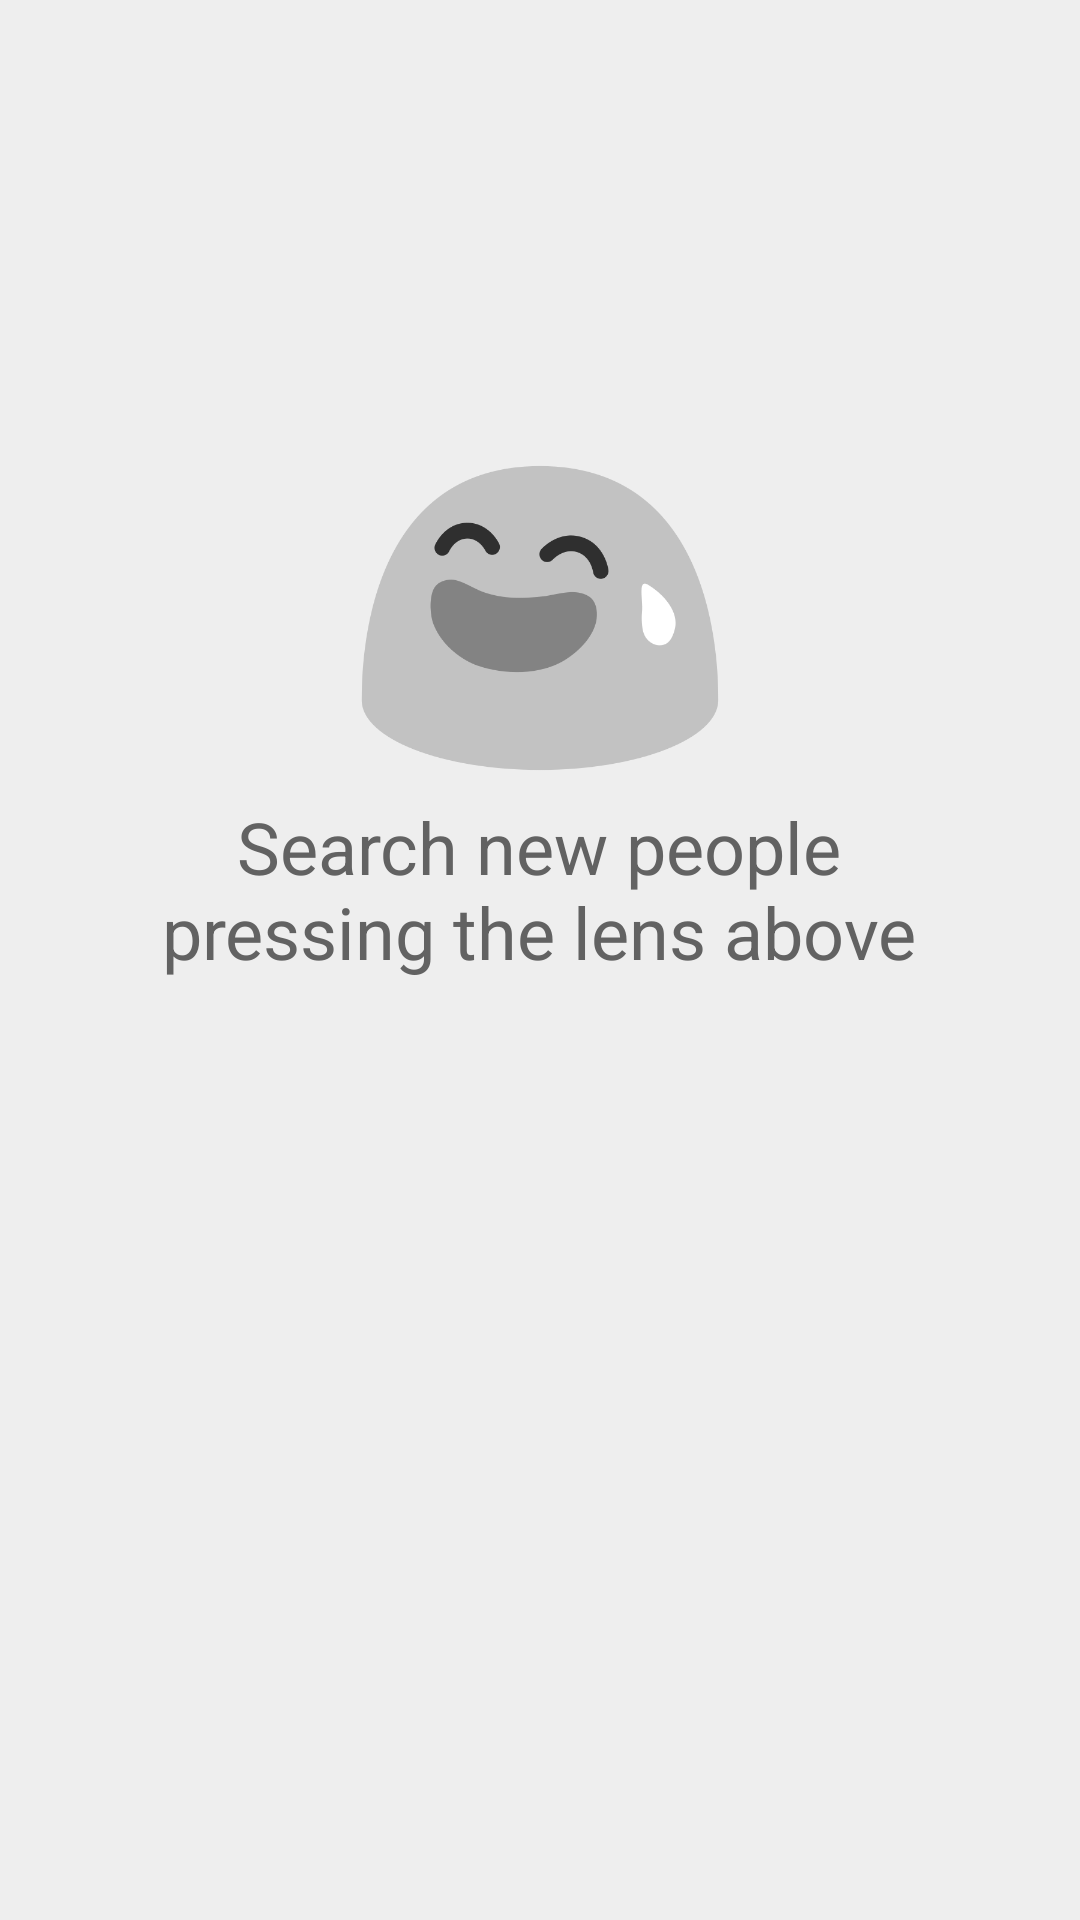

Where to tap for icons on this 1080w x 1920h app screen, as point (x, y):
what emoji: point (540, 618)
